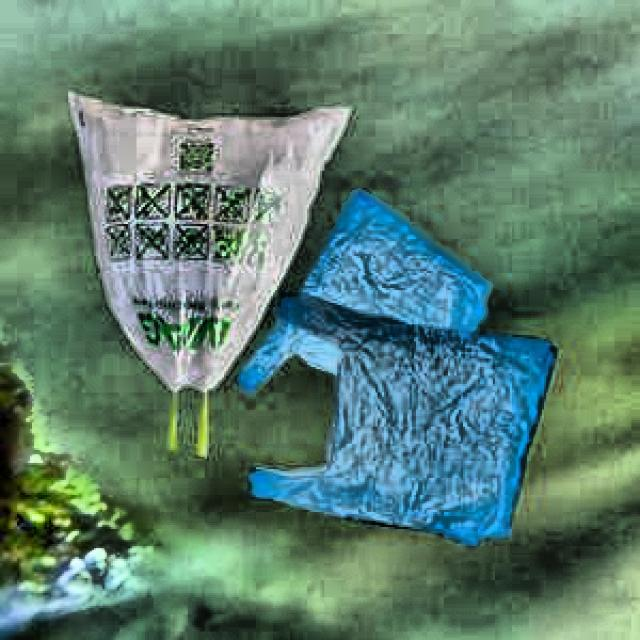Plastic: (55, 90, 361, 460), (228, 284, 558, 548), (238, 190, 499, 420)
